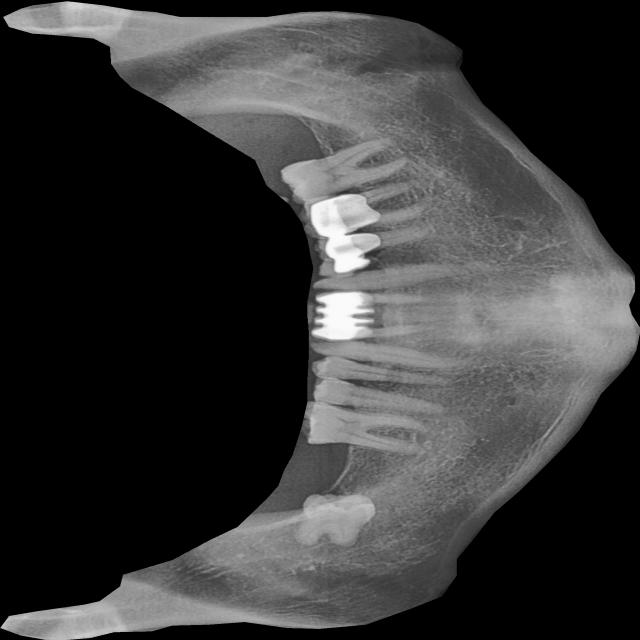mandibula: (0, 0, 640, 640)
